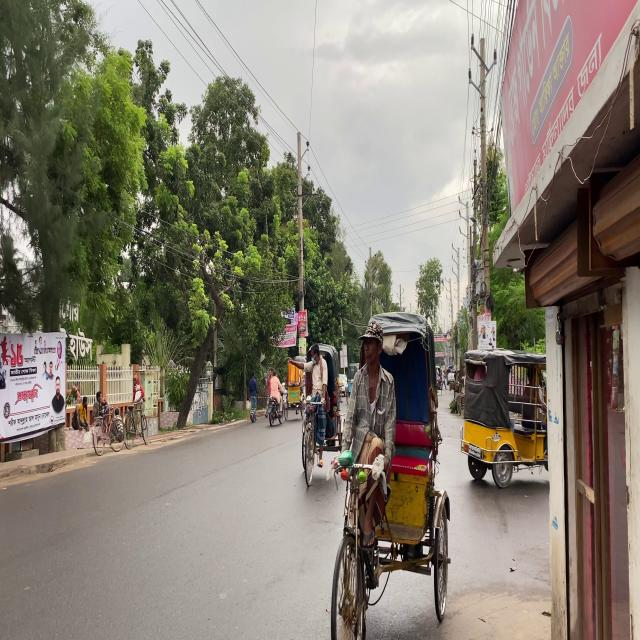rickshaw: (343, 307, 444, 616), (469, 342, 548, 489), (297, 339, 338, 470)
